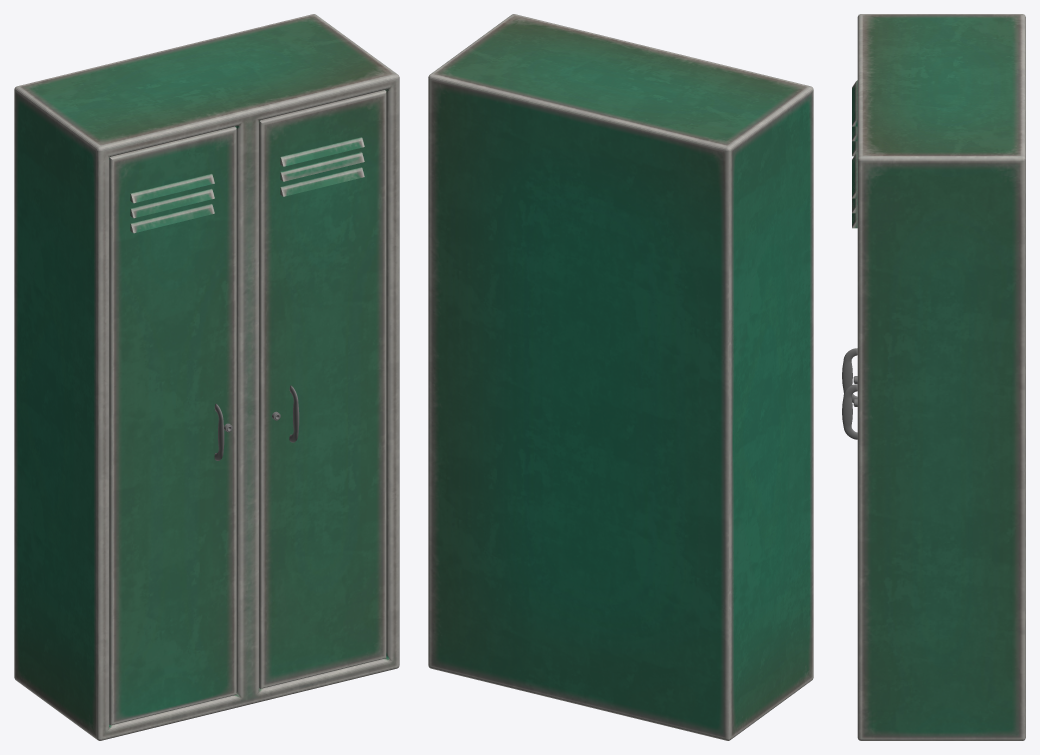
3 renders of one model, left to right at view 1: azimuth 30°, elevation 25°; view 2: azimuth 150°, elevation 25°; view 3: azimuth 270°, elevation 25°, orthographic.
Visible parts, largest first — view 1: Plane.022; view 2: Plane.022; view 3: Plane.022.
Boxes of the visible parts, x1,y1,x2,y2 form: Plane.022: [14, 14, 399, 740]; Plane.022: [428, 14, 813, 740]; Plane.022: [842, 14, 1025, 740].
Size of the model in its own units: 204 by 383 by 109.
Materials: 2 (2 with a texture image).
